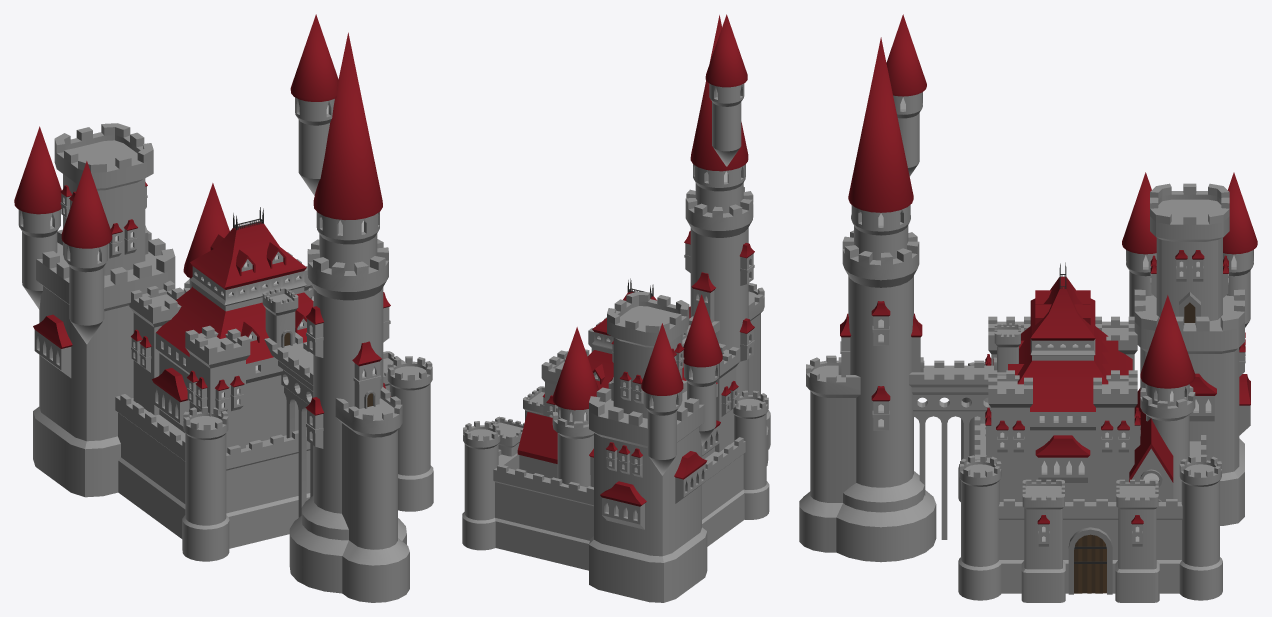
File: Castle.fbx
3 renders of one model, left to right at view 1: azimuth 30°, elevation 25°; view 2: azimuth 150°, elevation 25°; view 3: azimuth 270°, elevation 25°, orthographic. The views are drawn at different scales.
Visible parts, largest first — view 1: Castle; view 2: Castle; view 3: Castle.
Boxes of the visible parts, bbox=[...] form: Castle: bbox=[14, 14, 433, 602]; Castle: bbox=[462, 14, 770, 602]; Castle: bbox=[799, 14, 1257, 602].
Size of the model in its own units: 55.92 by 103 by 83.17.
